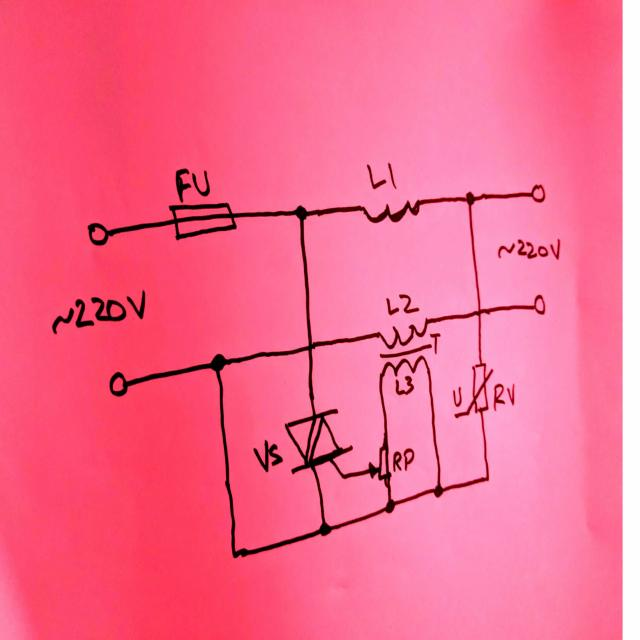crossover: (304, 336, 319, 356), (473, 300, 487, 320)
inductor: (358, 196, 424, 225)
junction: (210, 351, 225, 374), (318, 518, 332, 542), (295, 204, 309, 224), (228, 542, 242, 562), (432, 480, 446, 500), (462, 189, 476, 208), (383, 496, 396, 516), (481, 469, 492, 485)
resistor: (367, 441, 392, 482)
terminal: (107, 369, 132, 399), (86, 220, 111, 246), (528, 180, 547, 203), (529, 294, 547, 317)
text: (50, 286, 146, 333), (496, 236, 562, 264), (174, 166, 211, 205), (251, 438, 284, 472), (366, 160, 398, 190), (385, 292, 420, 318), (492, 382, 516, 412), (392, 444, 416, 473), (394, 375, 414, 396), (429, 332, 441, 355)
transformer: (375, 314, 432, 378)
